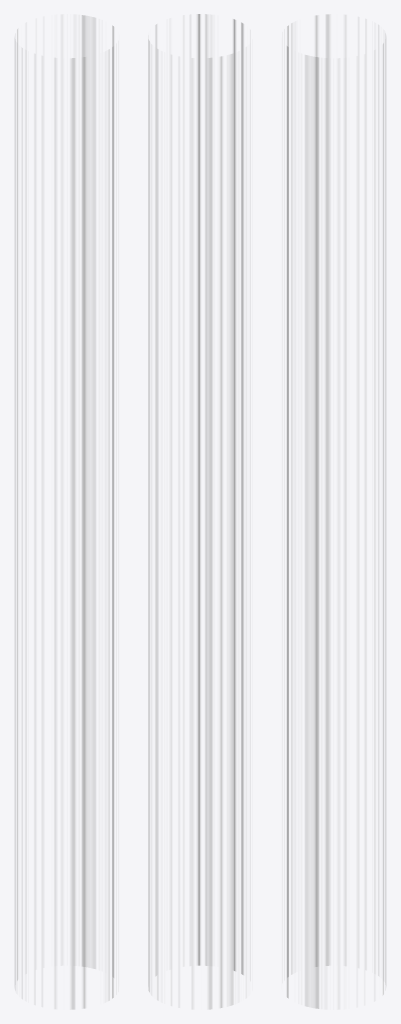
The model's file is rain.gltf.
3 views of the same model, side by side, from view 1: azimuth 90°, elevation 25°; view 2: azimuth 210°, elevation 25°; view 3: azimuth 270°, elevation 25° (orthographic).
Parts seen in each view (by area): view 1: Cylinder; view 2: Cylinder; view 3: Cylinder.
Part boxes in pixels (x1,y1,x2,y2): Cylinder: [15, 15, 113, 1009]; Cylinder: [148, 14, 246, 1009]; Cylinder: [287, 14, 385, 1008].
Size of the model in its own units: 2 by 20 by 2.
1 material, 1 textured.
